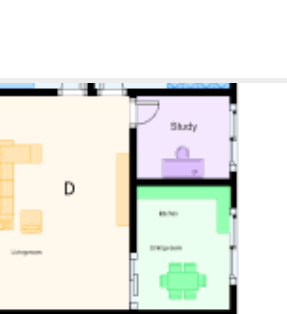door: (125, 98, 165, 127)
window: (223, 199, 242, 290), (223, 97, 245, 170)
